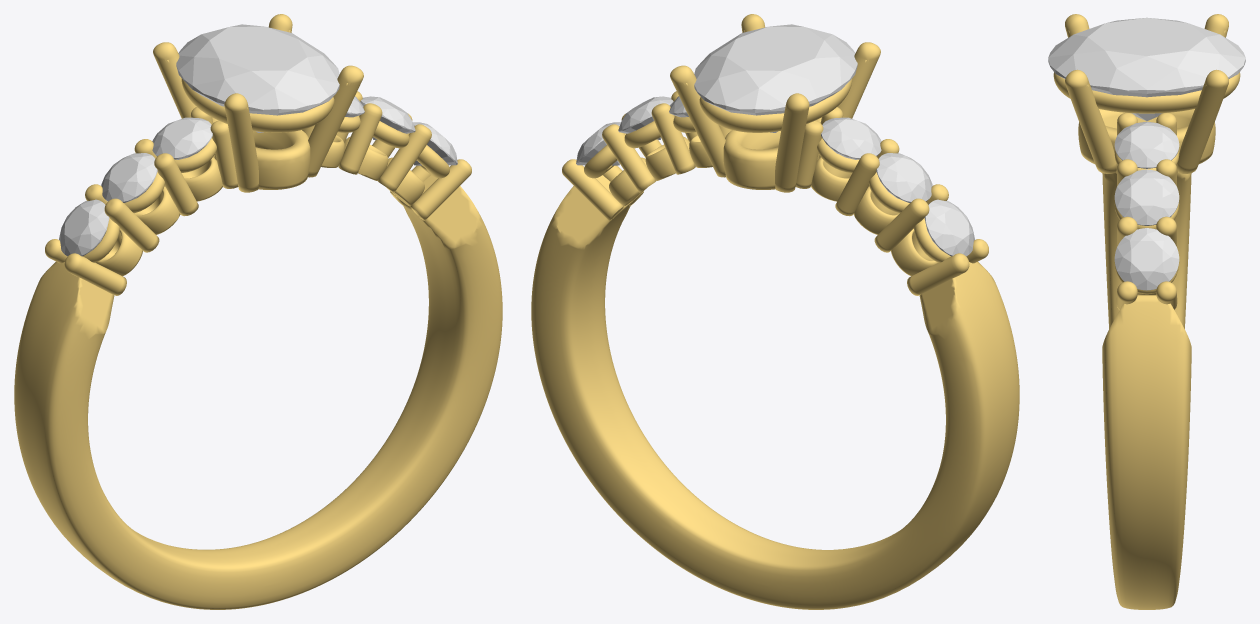
Rendered from diamond-oval-yellowgold-4prong-straighttaperedband-7stone.glb.
The picture shows the model from 3 angles, left to right: view 1: azimuth 30°, elevation 25°; view 2: azimuth 150°, elevation 25°; view 3: azimuth 270°, elevation 25°; orthographic projection.
Visible parts, largest first — view 1: metal, stone, side, side.001, side.002, side.004, side.003; view 2: metal, stone, side, side.001, side.002, side.004, side.003; view 3: metal, stone, side.003, side.004, side.005.
Boxes of the visible parts, bbox=[...] form: metal: bbox=[14, 14, 502, 609]; stone: bbox=[176, 24, 339, 132]; side: bbox=[59, 199, 109, 256]; side.001: bbox=[101, 153, 157, 202]; side.002: bbox=[152, 117, 212, 159]; side.004: bbox=[360, 96, 415, 139]; side.003: bbox=[413, 122, 457, 165]; metal: bbox=[531, 14, 1019, 609]; stone: bbox=[694, 24, 857, 132]; side: bbox=[924, 199, 974, 256]; side.001: bbox=[876, 153, 932, 202]; side.002: bbox=[821, 117, 881, 159]; side.004: bbox=[618, 96, 673, 139]; side.003: bbox=[576, 122, 620, 165]; metal: bbox=[1053, 14, 1240, 609]; stone: bbox=[1048, 17, 1245, 120]; side.003: bbox=[1114, 228, 1179, 290]; side.004: bbox=[1114, 169, 1179, 225]; side.005: bbox=[1114, 121, 1179, 168].
Size of the model in its own units: 20.5 by 23.41 by 7.64.
